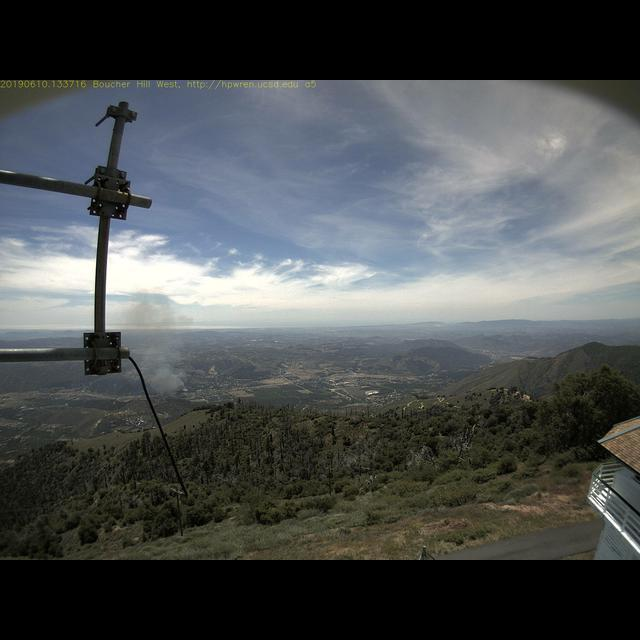Smoke: (110, 288, 185, 411)
